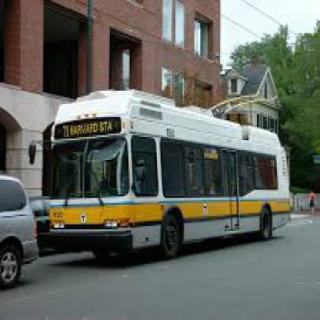Normal_vehicle: (28, 74, 306, 274)
